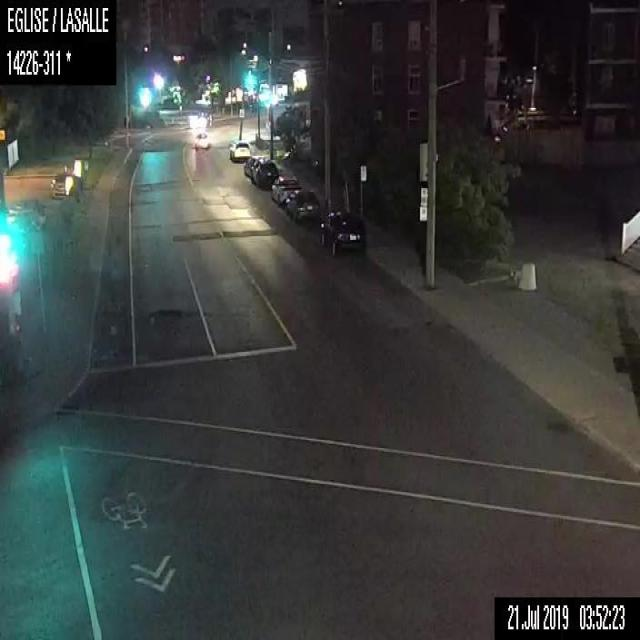vehicle: (320, 209, 364, 255), (284, 189, 319, 224), (271, 175, 299, 206), (252, 156, 278, 189), (50, 170, 79, 196), (229, 139, 250, 161), (193, 130, 209, 148)
